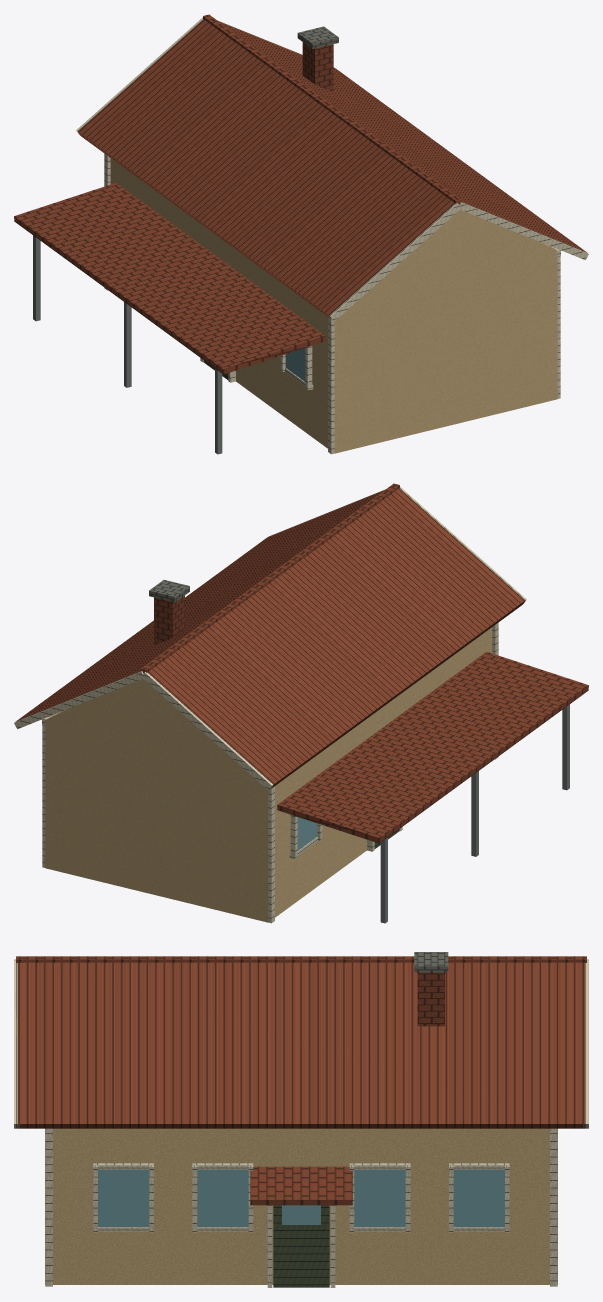
File: arizona-station-interwar_lod1.glb
3 views of the same model, one above another, from view 1: azimuth 30°, elevation 25°; view 2: azimuth 150°, elevation 25°; view 3: azimuth 270°, elevation 25° (orthographic). The views are drawn at different scales.
Parts seen in each view (by area): view 1: RF_Station_Roof-1, RF_Station_Body, RF_Station_Canopy, RF_Station_Roof1, RF_Station_Gable.001, RF_Station_Ridge, RF_Station_Vergeband.001, RF_Station_Chimney, RF_Station_Vergeband.003, RF_Station_Corner.001, RF_Station_Post, RF_Station_Post.001 (+3 smaller); view 2: RF_Station_Roof-1, RF_Station_Body, RF_Station_Canopy, RF_Station_Roof1, RF_Station_Gable, RF_Station_Ridge, RF_Station_Vergeband.002, RF_Station_Chimney, RF_Station_Vergeband, RF_Station_Corner.002, RF_Station_Post.001, RF_Station_Post.002 (+3 smaller); view 3: RF_Station_Roof1, RF_Station_Body, RF_Station_PublicAwning, RF_Station_Door, RF_Station_Ridge, RF_Station_Window.006, RF_Station_Window.007, RF_Station_Window.005, RF_Station_Window, RF_Station_Chimney, RF_Station_Corner.003, RF_Station_Corner (+6 smaller).
Part boxes in pixels (<box>): RF_Station_Roof-1: <box>78,19,454,318</box>; RF_Station_Body: <box>110,158,557,453</box>; RF_Station_Canopy: <box>14,182,325,374</box>; RF_Station_Roof1: <box>218,21,586,252</box>; RF_Station_Gable.001: <box>360,210,556,298</box>; RF_Station_Ridge: <box>203,14,462,204</box>; RF_Station_Vergeband.001: <box>329,203,461,321</box>; RF_Station_Chimney: <box>302,42,333,91</box>; RF_Station_Vergeband.003: <box>459,202,588,260</box>; RF_Station_Corner.001: <box>328,317,334,454</box>; RF_Station_Post: <box>33,235,40,321</box>; RF_Station_Post.001: <box>215,368,222,454</box>; RF_Station_Roof-1: <box>148,488,524,787</box>; RF_Station_Body: <box>45,627,492,922</box>; RF_Station_Canopy: <box>277,651,588,843</box>; RF_Station_Roof1: <box>16,490,384,721</box>; RF_Station_Gable: <box>43,679,246,771</box>; RF_Station_Ridge: <box>140,483,399,673</box>; RF_Station_Vergeband.002: <box>141,672,273,790</box>; RF_Station_Chimney: <box>154,595,184,645</box>; RF_Station_Vergeband: <box>14,671,143,729</box>; RF_Station_Corner.002: <box>268,786,274,923</box>; RF_Station_Post.001: <box>562,704,569,790</box>; RF_Station_Post.002: <box>471,771,478,856</box>; RF_Station_Roof1: <box>17,962,585,1128</box>; RF_Station_Body: <box>45,1128,557,1284</box>; RF_Station_PublicAwning: <box>250,1166,352,1205</box>; RF_Station_Door: <box>273,1205,329,1287</box>; RF_Station_Ridge: <box>16,956,586,962</box>; RF_Station_Window.006: <box>197,1169,248,1226</box>; RF_Station_Window.007: <box>354,1169,405,1226</box>; RF_Station_Window.005: <box>98,1169,149,1226</box>; RF_Station_Window: <box>453,1169,504,1226</box>; RF_Station_Chimney: <box>417,972,444,1026</box>; RF_Station_Corner.003: <box>45,1128,52,1286</box>; RF_Station_Corner: <box>550,1128,557,1286</box>.
Bounding box in the file's own units: 14.23 × 9.3 × 16.82.
Materials: 8 (6 with a texture image).
